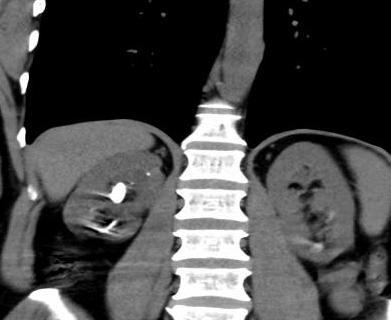Tas_Var: (106, 180, 128, 207), (108, 218, 121, 230), (98, 227, 108, 234), (142, 170, 151, 177), (130, 180, 134, 186)
